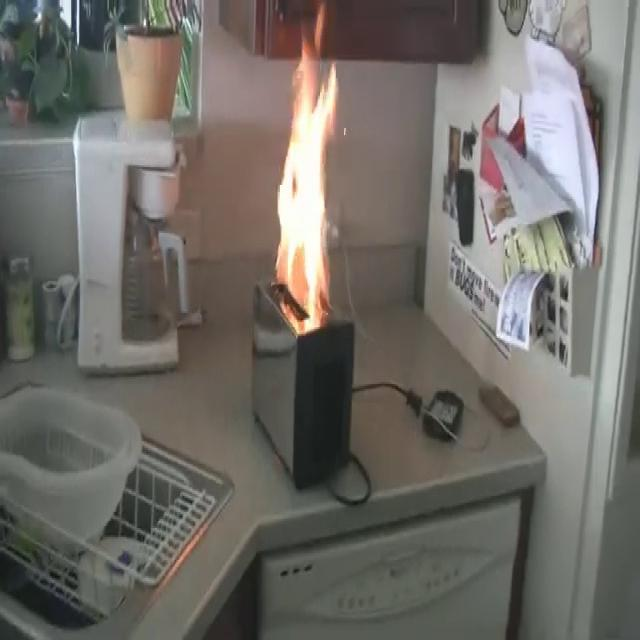fire: (263, 0, 345, 343)
